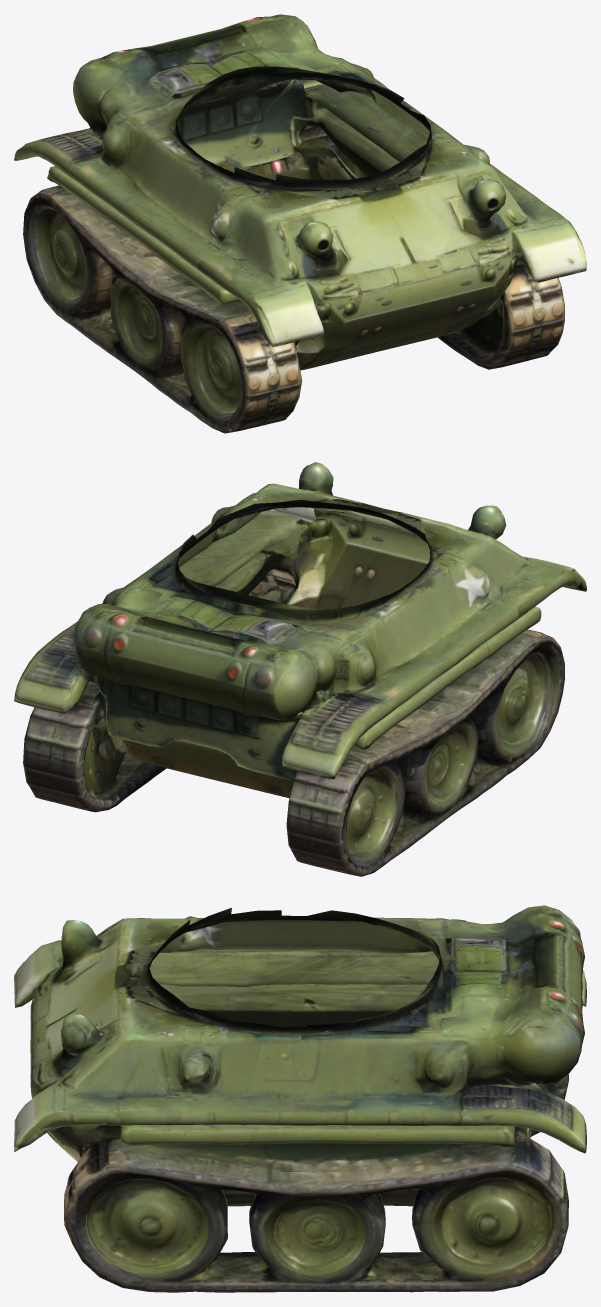
File: tank2_base.glb
3 renders of one model, top to bottom at view 1: azimuth 30°, elevation 25°; view 2: azimuth 150°, elevation 25°; view 3: azimuth 270°, elevation 25°, orthographic. The views are drawn at different scales.
Parts seen in each view (by area): view 1: Mesh_0.002; view 2: Mesh_0.002; view 3: Mesh_0.002.
Part boxes in pixels (left/top/right/bottom): Mesh_0.002: left=14, top=14, right=586, bottom=433; Mesh_0.002: left=14, top=462, right=586, bottom=876; Mesh_0.002: left=14, top=905, right=586, bottom=1292.
Size of the model in its own units: 12.37 by 8.29 by 17.01.
Materials: 1 (1 with a texture image).
